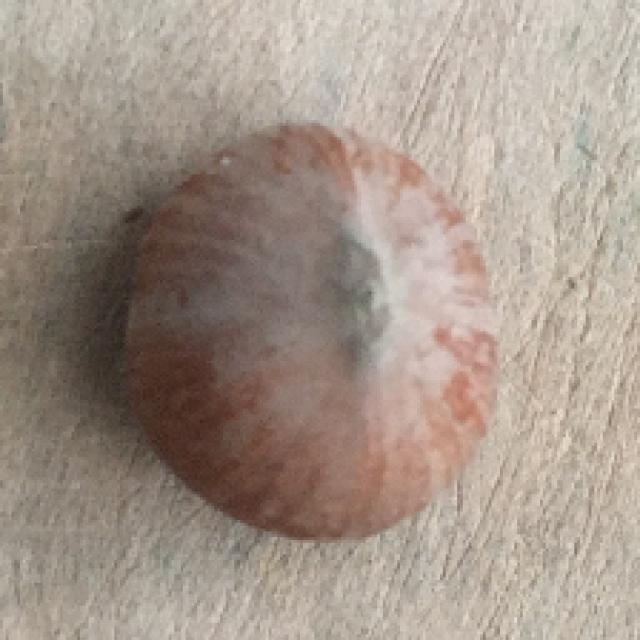qualityHazelnut: (110, 113, 512, 550)
